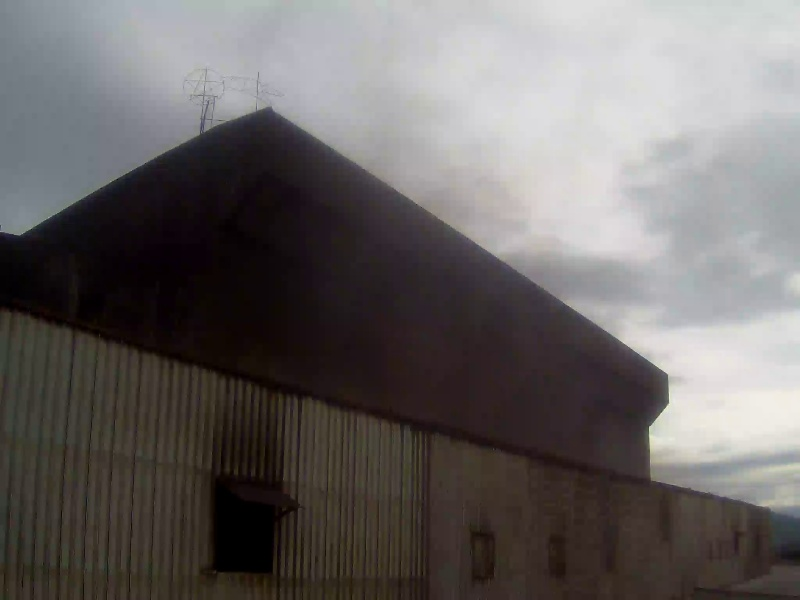bom: (7, 11, 264, 185), (635, 299, 800, 453)
ruim: (259, 66, 677, 447)
